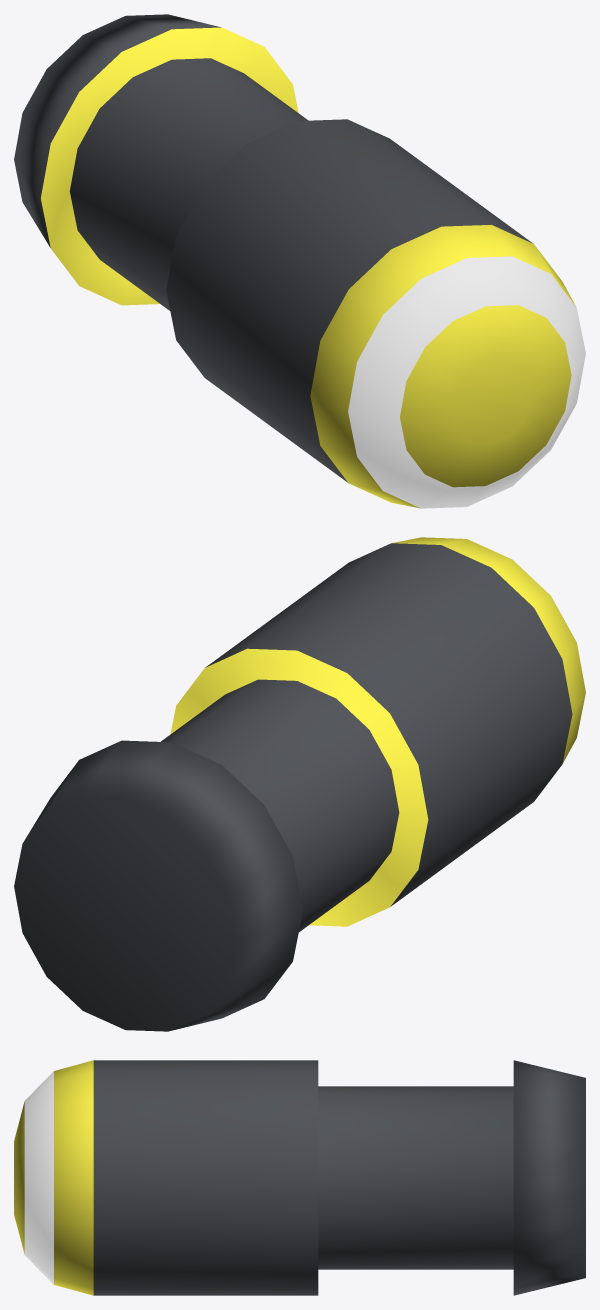
3 views of the same model, one above another, from view 1: azimuth 30°, elevation 25°; view 2: azimuth 150°, elevation 25°; view 3: azimuth 270°, elevation 25° (orthographic). The views are drawn at different scales.
Visible parts, largest first — view 1: Cylinder.001; view 2: Cylinder.001; view 3: Cylinder.001.
Boxes of the visible parts, box(x1,y1,x2,y2) form: Cylinder.001: box(14, 14, 585, 508); Cylinder.001: box(14, 537, 585, 1031); Cylinder.001: box(14, 1060, 585, 1295).
Bounding box in the file's own units: 0.0208 × 0.0208 × 0.0504.
2 materials, 2 textured.
